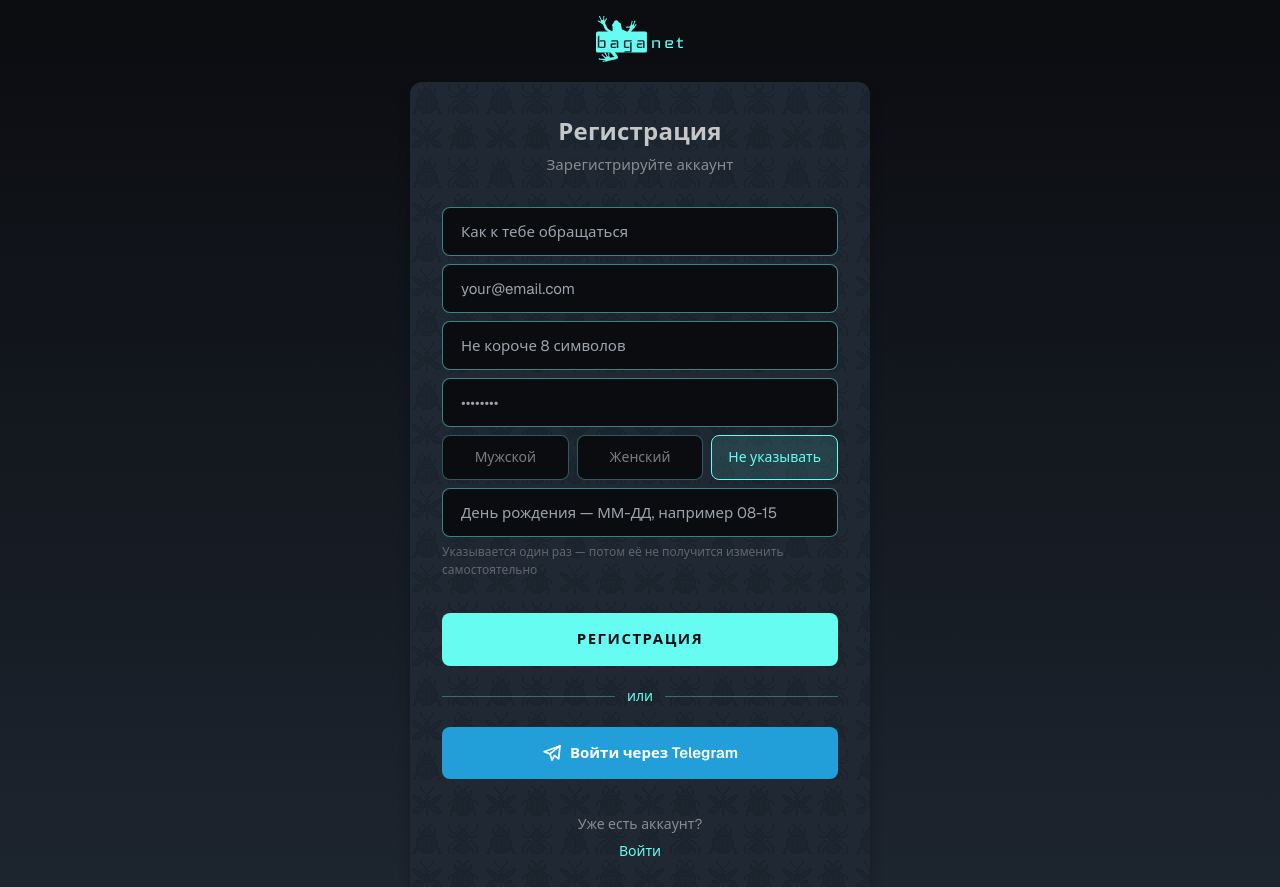
it: RegisterPage validation, before anything reaches the server › refuses mismatched passwords
Step 1. Type "Новичок" into the field with placeholder "Как к тебе обращаться" → point(640, 231), box [442,206,838,256]
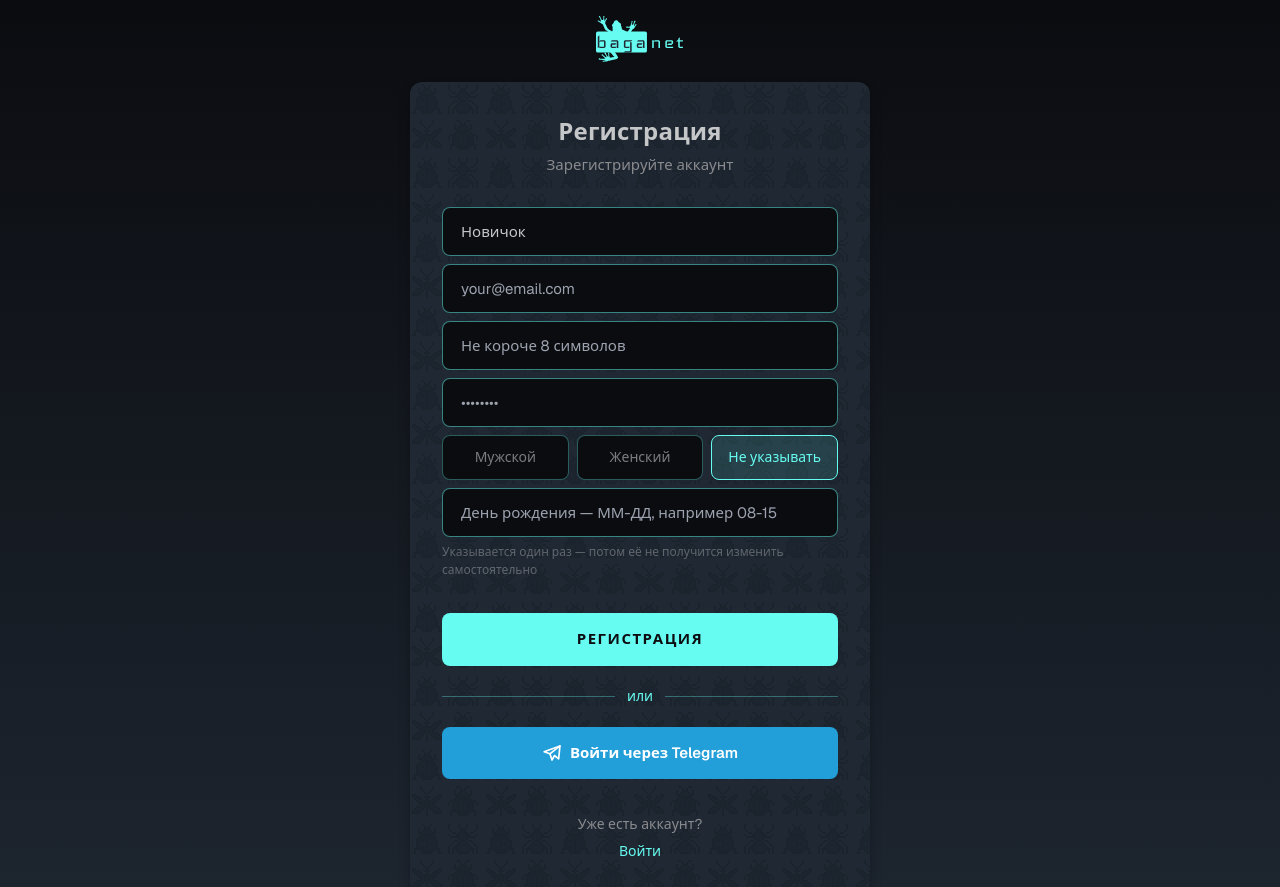
Step 2. Type "new@qa.com" into the field with placeholder "your@email.com" → point(640, 288), box [442,264,838,312]
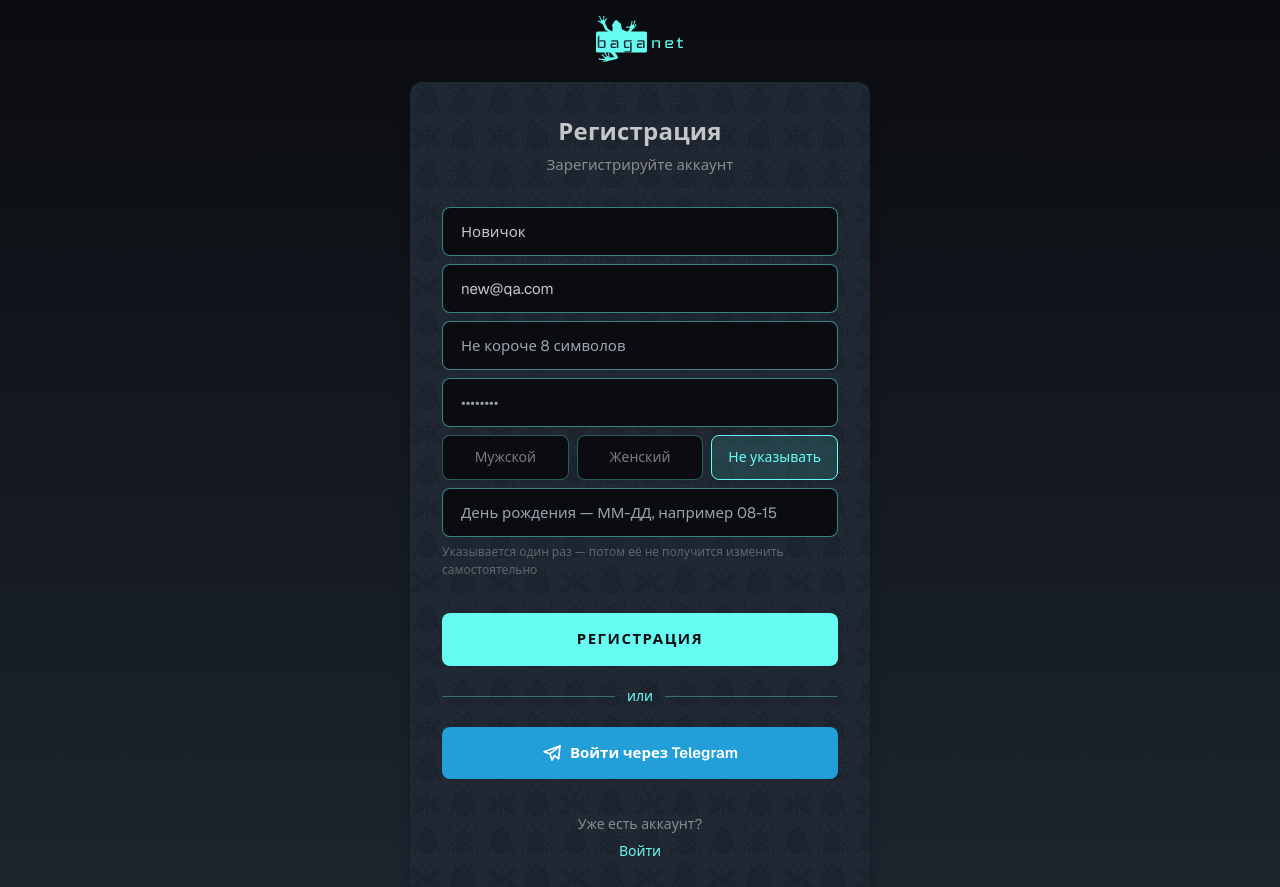
Step 3. Type "longenough1" into the password field with placeholder "Не короче 8 символов" → point(640, 345), box [442,320,838,370]
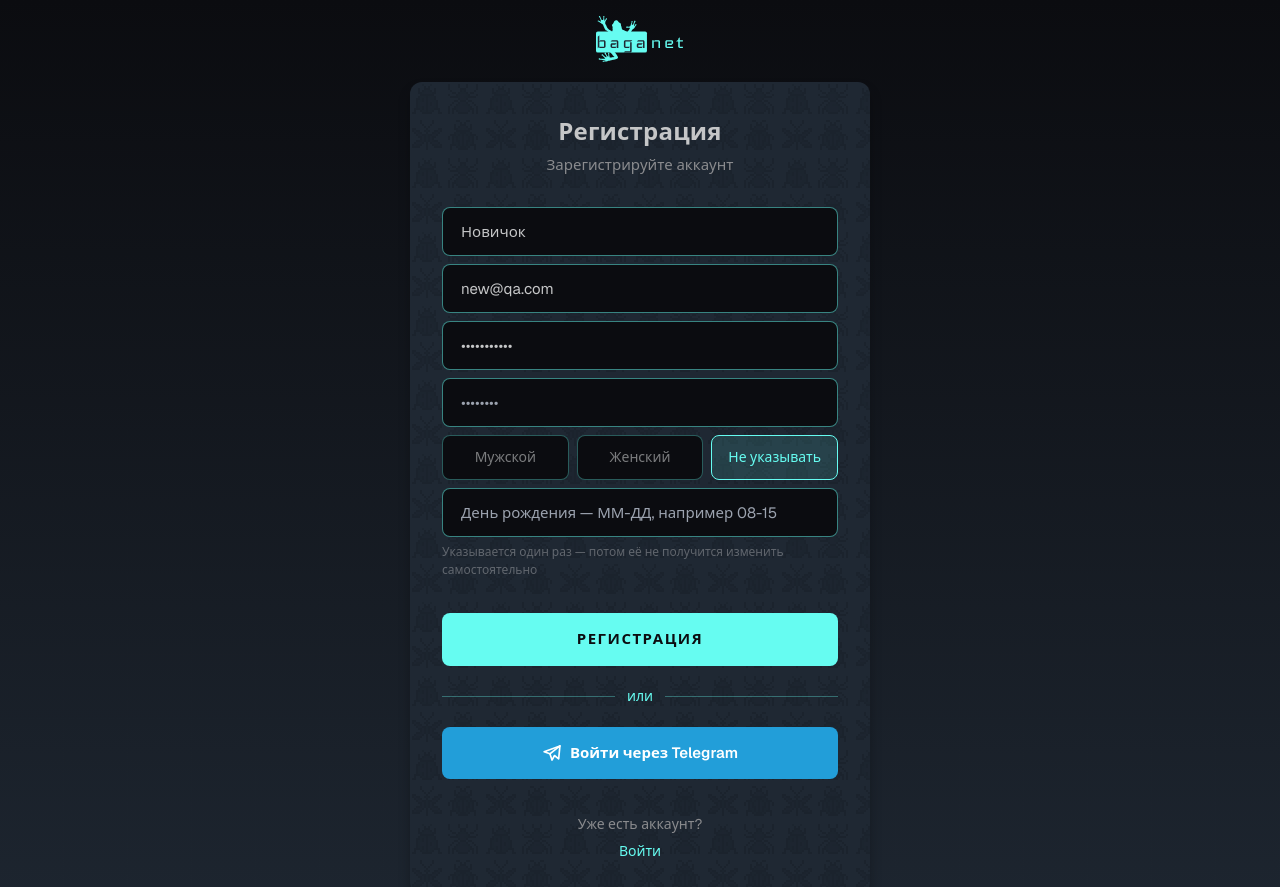
Step 4. Type "somethingelse1" into the password field with placeholder "••••••••" → point(640, 402), box [442,378,838,426]
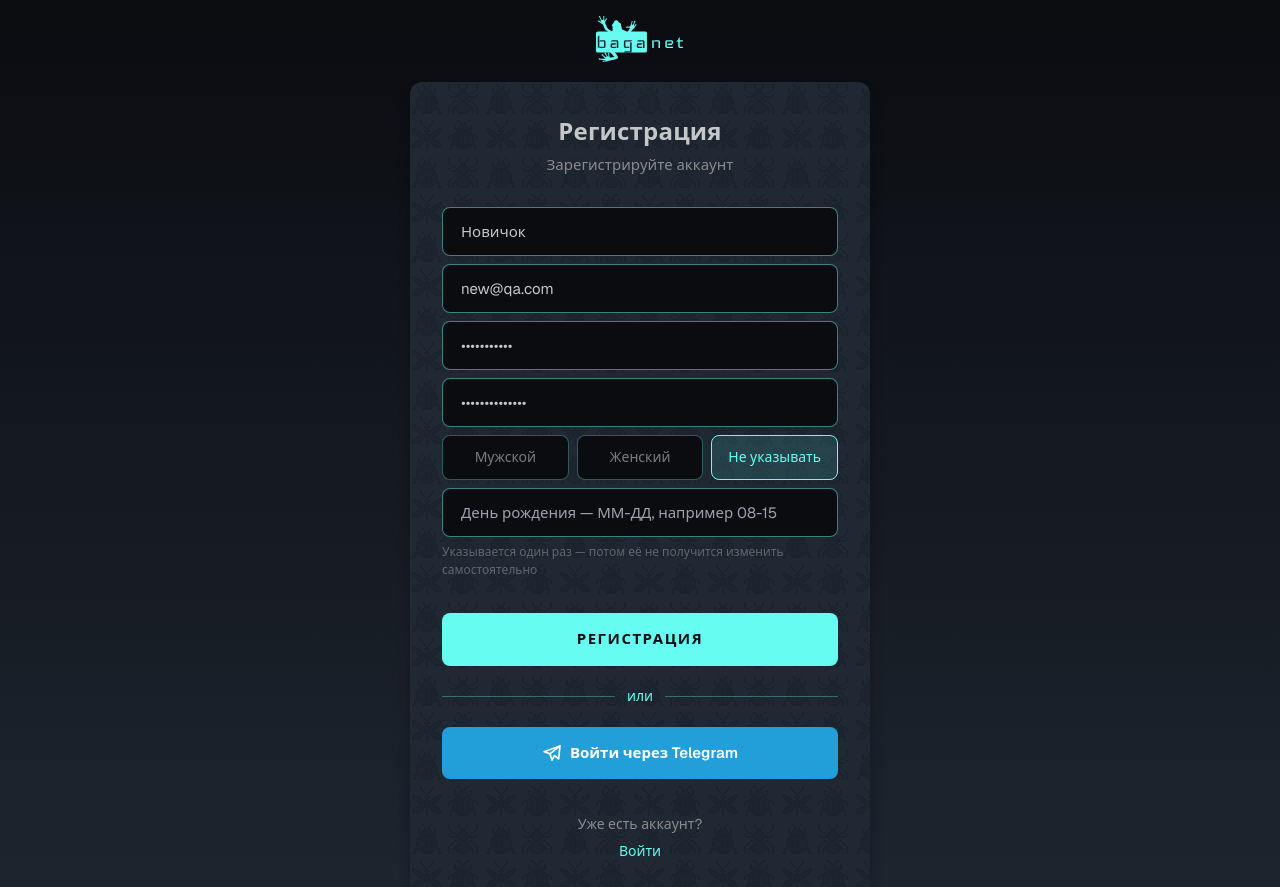
Step 5. Click the button "Регистрация" → point(640, 639), box [442,613,838,666]
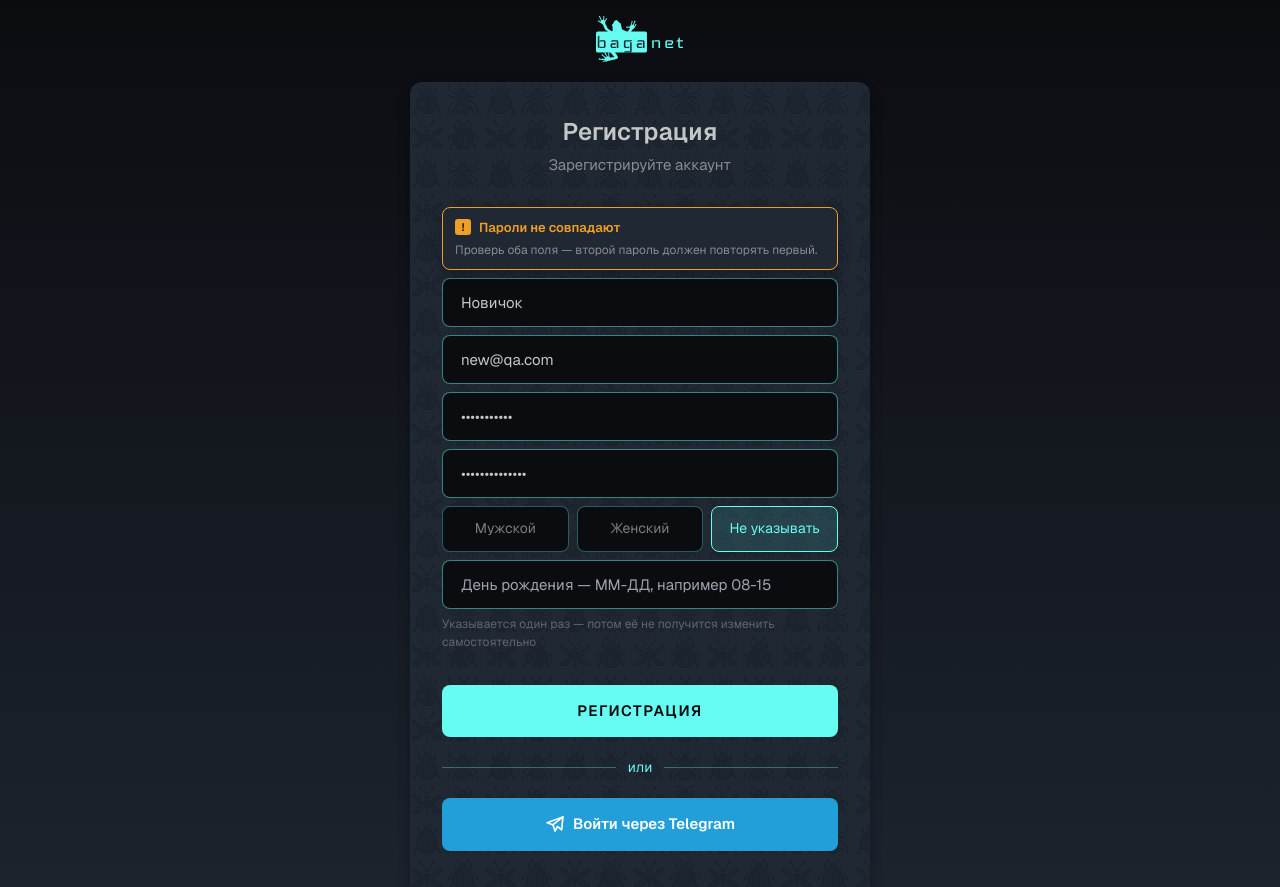
Check: the text "Пароли не совпадают" is shown, box [479,218,621,236]
